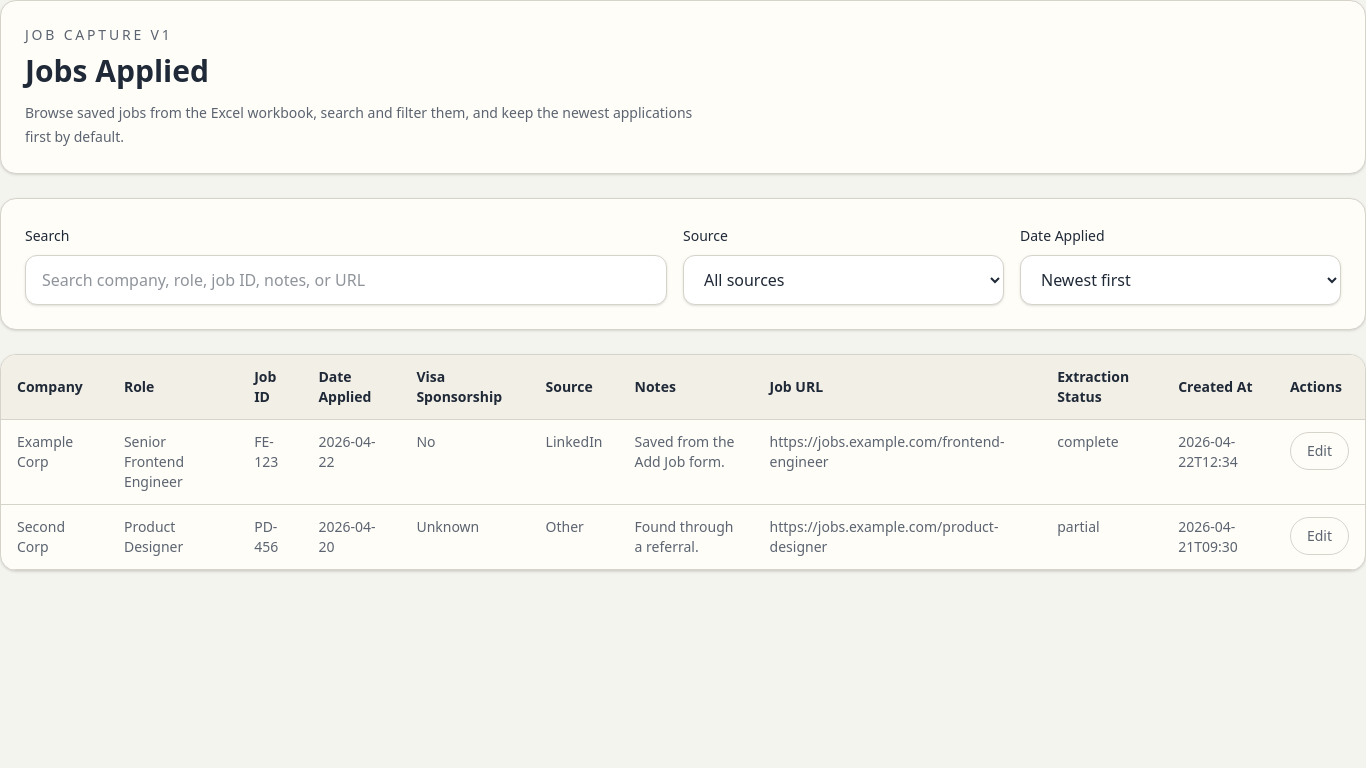
Scenario: JobsPage › filters the table by search text
Check: the text "Example Corp" is shown, box [1,420,108,504]
In the search field labelled "Search": x=346, y=280 [25,255,667,305], type "designer"
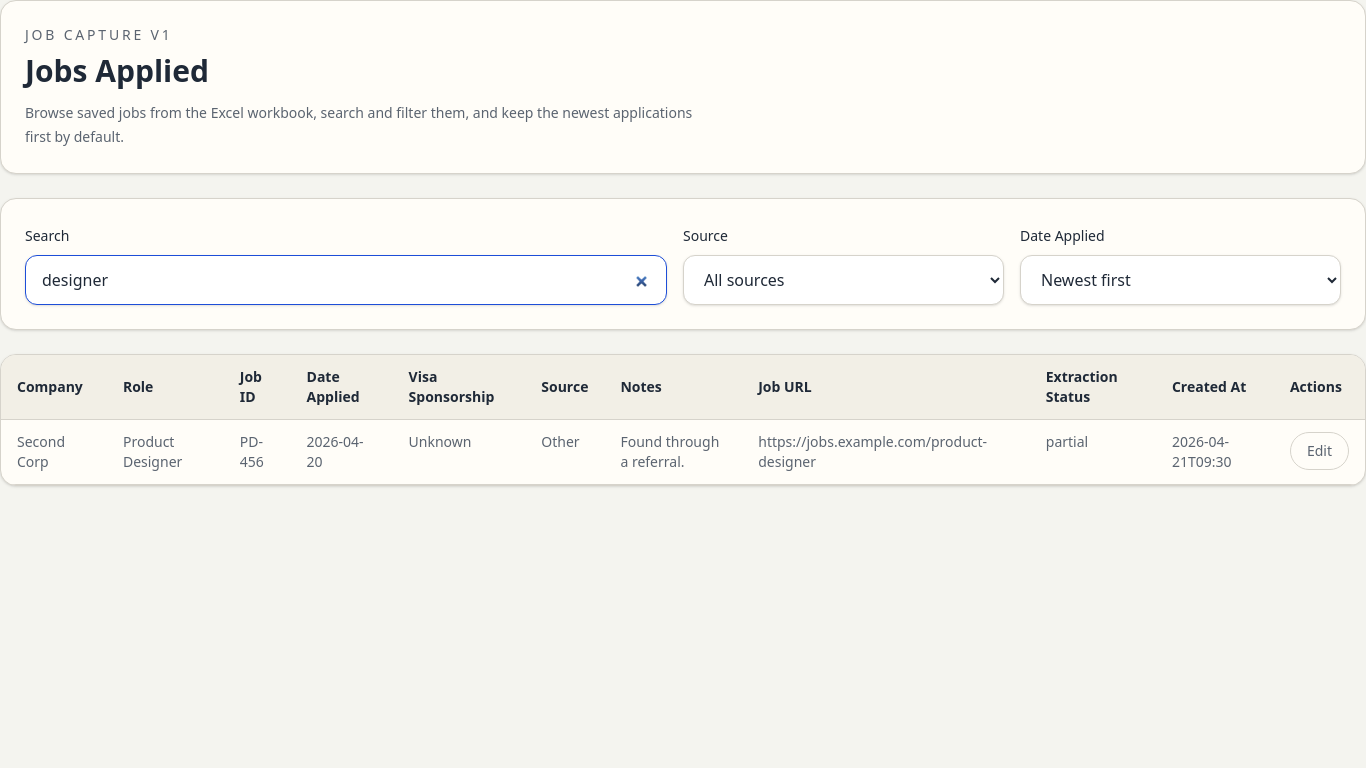
Check: the text "Second Corp" is shown, box [1,420,107,484]
Check: the text "Example Corp" is gone
